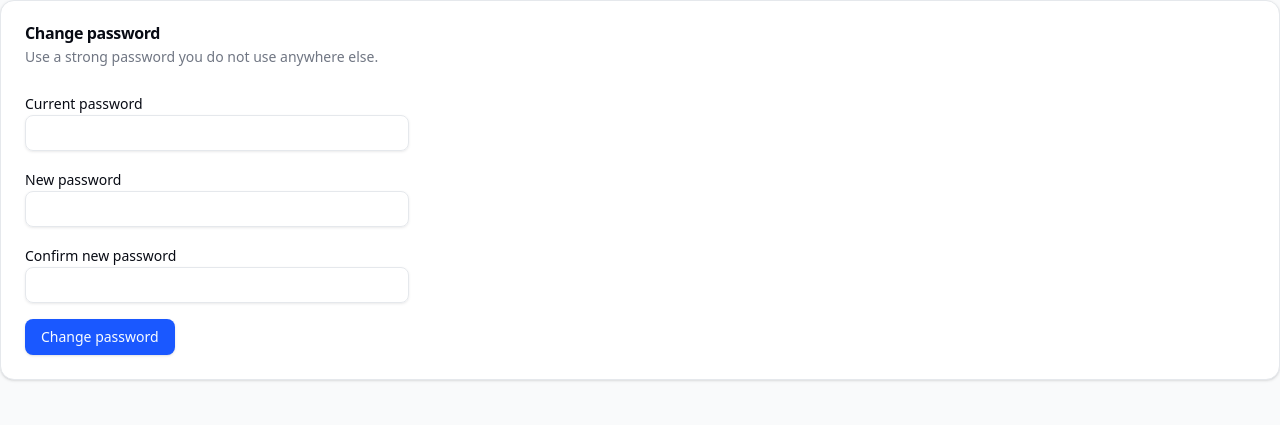
Scenario: PasswordSection › maps allauth 400 param errors onto the form fields
In the password field labelled "Current password": (217, 133) [25,115,409,151], type "wrong"
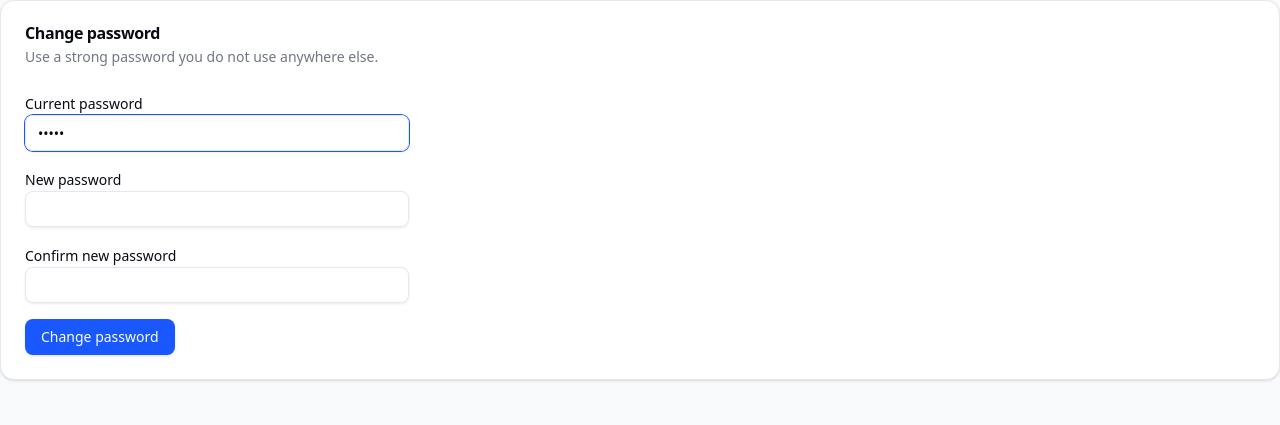
In the password field labelled "New password": (217, 209) [25,191,409,227], type "new-pass-123"
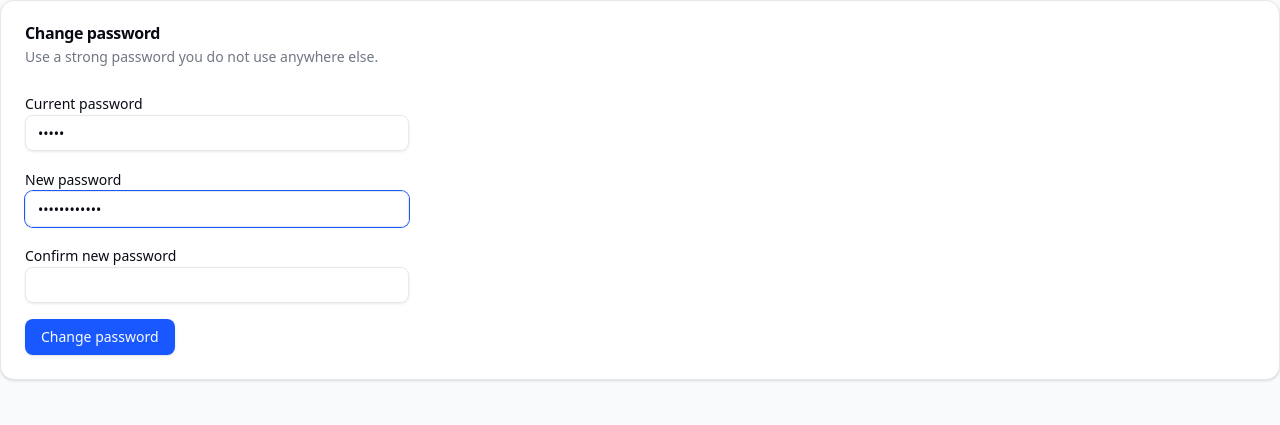
In the password field labelled "Confirm new password": (217, 285) [25,267,409,303], type "new-pass-123"
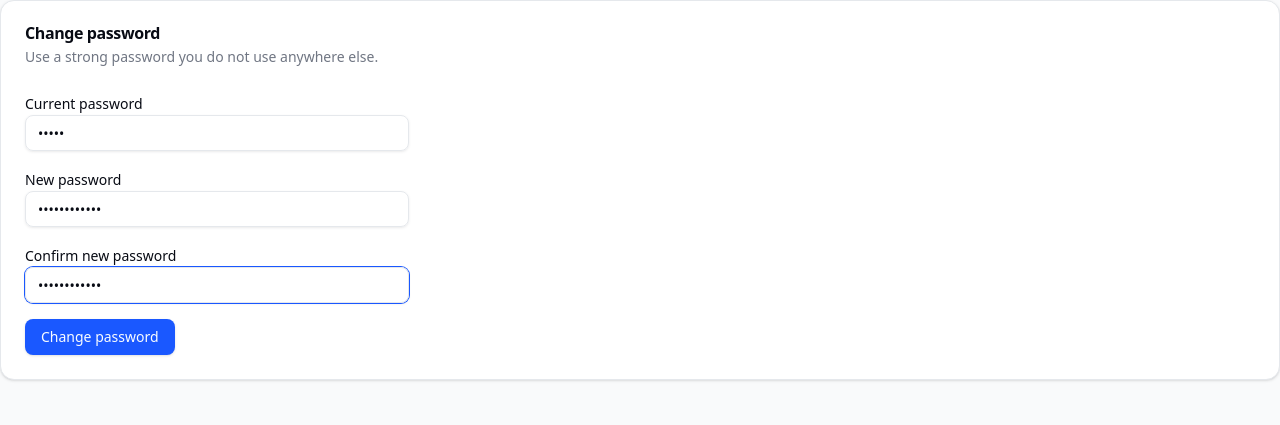
Click the button "Change password": (100, 337) [25,319,175,355]
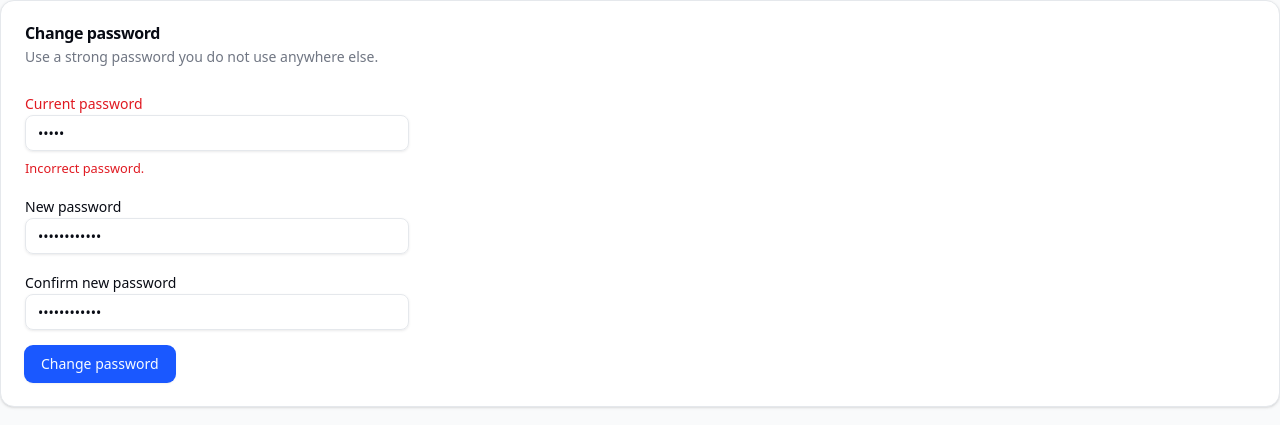
Expected: the text "Incorrect password." is shown, [25,159,144,177]
